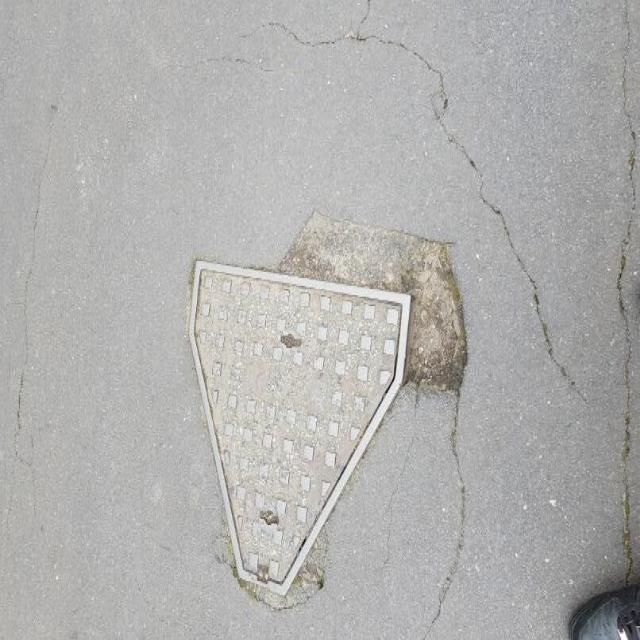Pothole: (269, 200, 472, 402)
